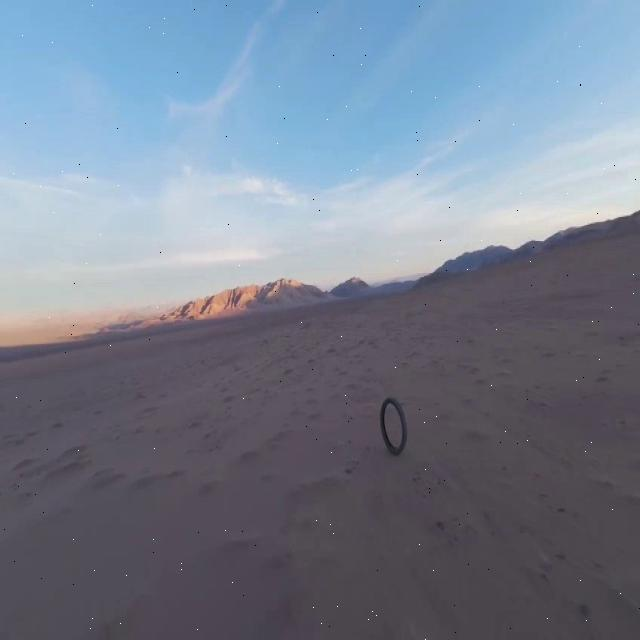Tire: (380, 396, 406, 454)
